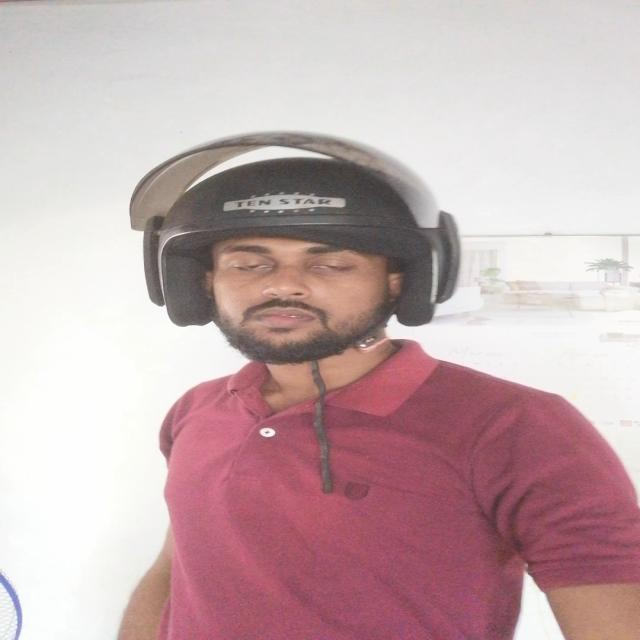Helmet_Wearer: (83, 124, 501, 388)
